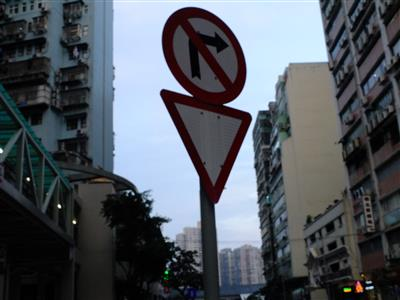noRightTurn: (160, 5, 248, 109)
yield: (157, 87, 253, 208)
